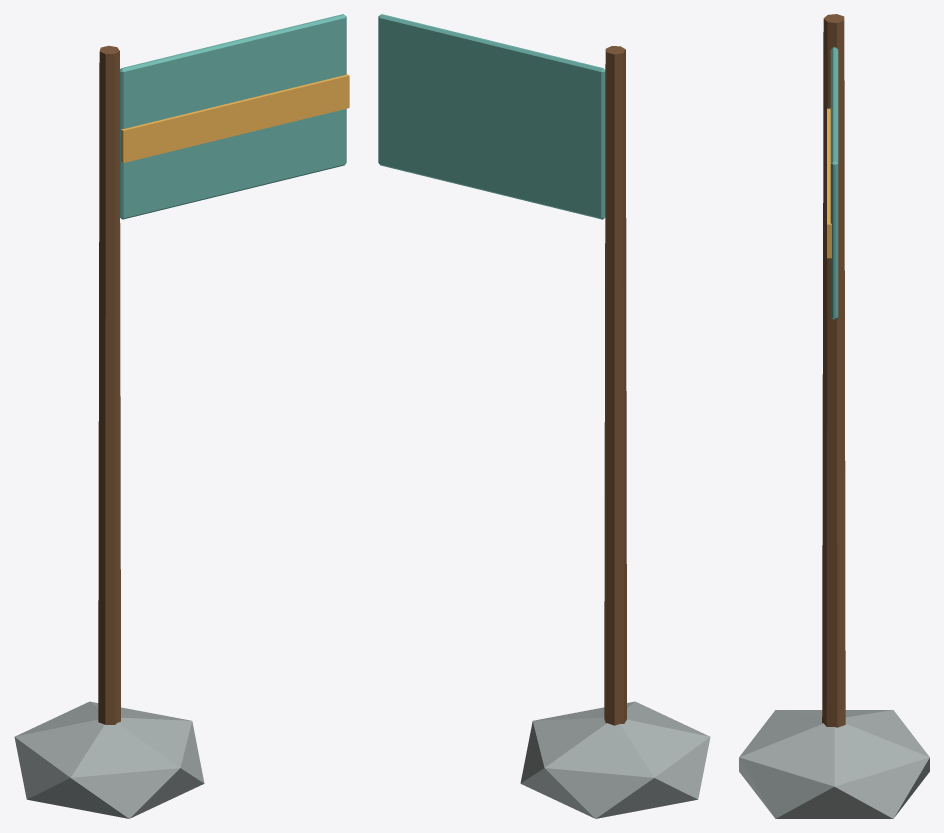
File: CC_Flag.fbx
3 views of the same model, side by side, from view 1: azimuth 30°, elevation 25°; view 2: azimuth 150°, elevation 25°; view 3: azimuth 270°, elevation 25° (orthographic). The views are drawn at different scales.
Visible parts, largest first — view 1: Banner, Flag base, Flag pole, Banner stripe; view 2: Banner, Flag base, Flag pole; view 3: Flag base, Flag pole, Banner, Banner stripe.
Part boxes in pixels (x1,y1,x2,y2): Banner: (120,14,346,219); Flag base: (14,701,204,818); Flag pole: (98,45,120,724); Banner stripe: (121,74,349,162); Banner: (378,14,605,219); Flag base: (520,701,710,818); Flag pole: (604,46,626,725); Flag base: (739,710,929,818); Flag pole: (822,14,845,727); Banner: (830,47,838,319); Banner stripe: (827,108,831,258).
Size of the model in its own units: 1.55 by 3.5 by 0.7656.
